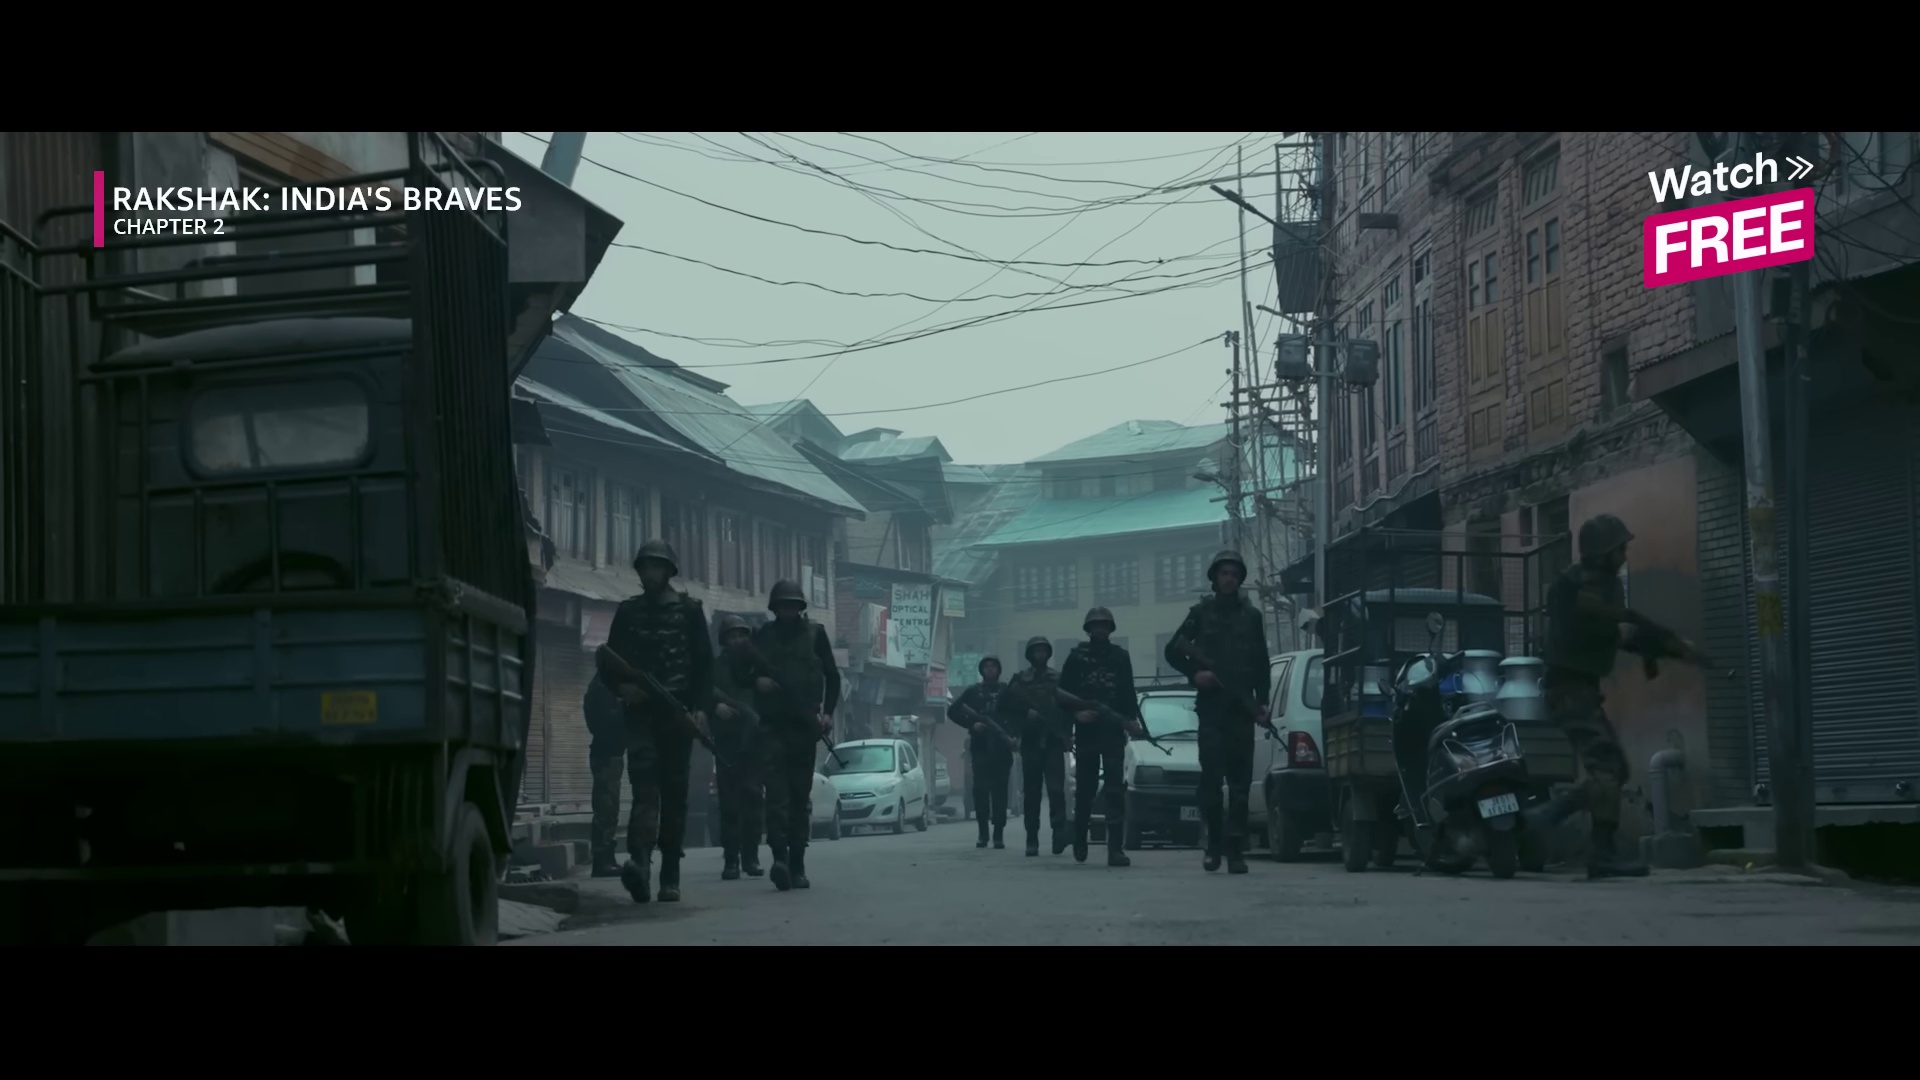gun: (595, 638, 732, 774), (728, 636, 848, 773), (1577, 588, 1737, 683), (1171, 633, 1288, 752), (1055, 687, 1174, 756), (1006, 680, 1077, 757), (957, 702, 1018, 753)
p_w_gun: (1511, 512, 1739, 877), (592, 538, 725, 906), (1160, 549, 1288, 870), (732, 576, 848, 897), (1058, 607, 1170, 868), (1002, 636, 1083, 858), (945, 650, 1023, 851)
